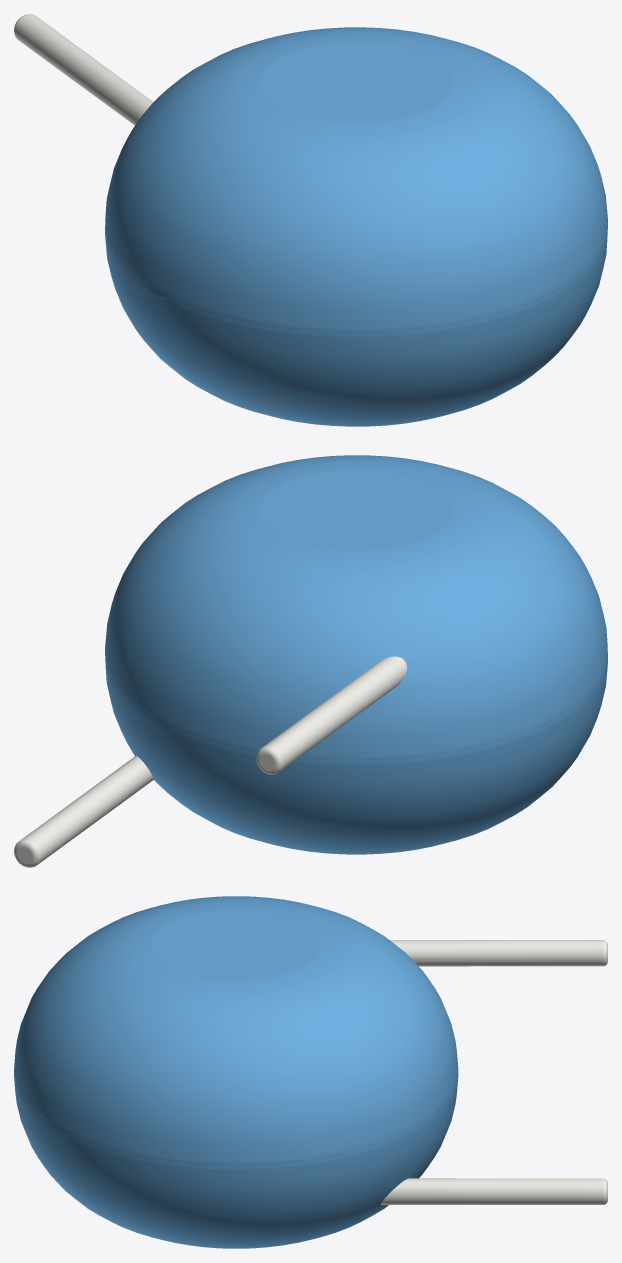
Rendered from RV_Disc_D9mm_W5.7mm_P5mm.glb.
3 renders of one model, top to bottom at view 1: azimuth 30°, elevation 25°; view 2: azimuth 150°, elevation 25°; view 3: azimuth 270°, elevation 25°, orthographic. The views are drawn at different scales.
Parts seen in each view (by area): view 1: Shape_IndexedFaceSet.001, Shape_IndexedFaceSet.002, Shape_IndexedFaceSet.003, Shape_IndexedFaceSet.004, Shape_IndexedFaceSet; view 2: Shape_IndexedFaceSet.001, Shape_IndexedFaceSet.002, Shape_IndexedFaceSet.003, Shape_IndexedFaceSet.004, Shape_IndexedFaceSet.006, Shape_IndexedFaceSet; view 3: Shape_IndexedFaceSet.001, Shape_IndexedFaceSet.002, Shape_IndexedFaceSet.003, Shape_IndexedFaceSet.006, Shape_IndexedFaceSet.004, Shape_IndexedFaceSet.
Boxes of the visible parts, x1,y1,x2,y2 form: Shape_IndexedFaceSet.001: [105, 27, 607, 329]; Shape_IndexedFaceSet.002: [105, 235, 607, 426]; Shape_IndexedFaceSet.003: [260, 42, 452, 122]; Shape_IndexedFaceSet.004: [14, 14, 153, 125]; Shape_IndexedFaceSet: [105, 223, 607, 336]; Shape_IndexedFaceSet.001: [105, 455, 607, 757]; Shape_IndexedFaceSet.002: [105, 663, 607, 854]; Shape_IndexedFaceSet.003: [260, 470, 452, 550]; Shape_IndexedFaceSet.004: [262, 656, 406, 771]; Shape_IndexedFaceSet.006: [20, 755, 153, 864]; Shape_IndexedFaceSet: [105, 649, 607, 764]; Shape_IndexedFaceSet.001: [14, 896, 458, 1163]; Shape_IndexedFaceSet.002: [14, 1077, 458, 1248]; Shape_IndexedFaceSet.003: [151, 909, 320, 980]; Shape_IndexedFaceSet.006: [381, 1178, 602, 1204]; Shape_IndexedFaceSet.004: [390, 940, 602, 966]; Shape_IndexedFaceSet: [14, 1071, 458, 1169].
Bounding box in the file's own units: 3.54 × 2.24 × 4.74.
